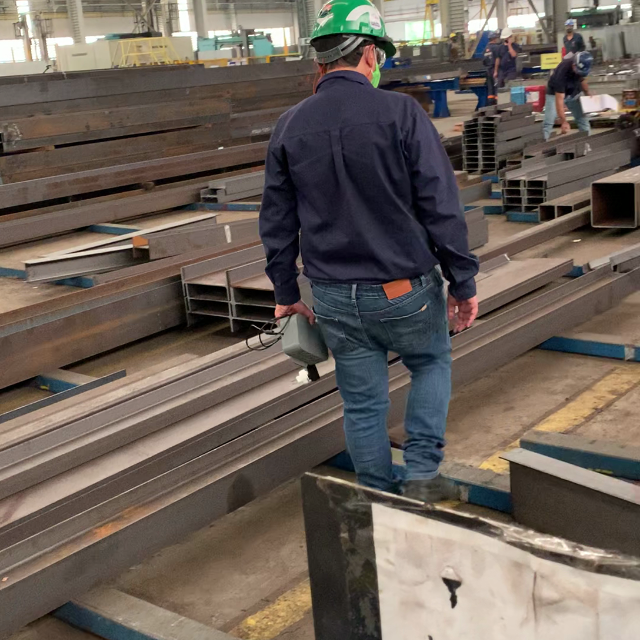helmet: (310, 1, 400, 58)
mask: (372, 64, 381, 83)
person: (258, 2, 480, 500)
safety-shoe: (399, 470, 465, 502)
